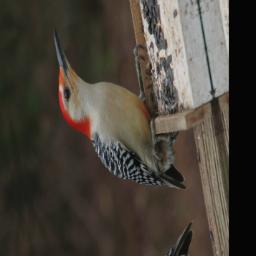Woodpecker: (48, 0, 190, 246)
